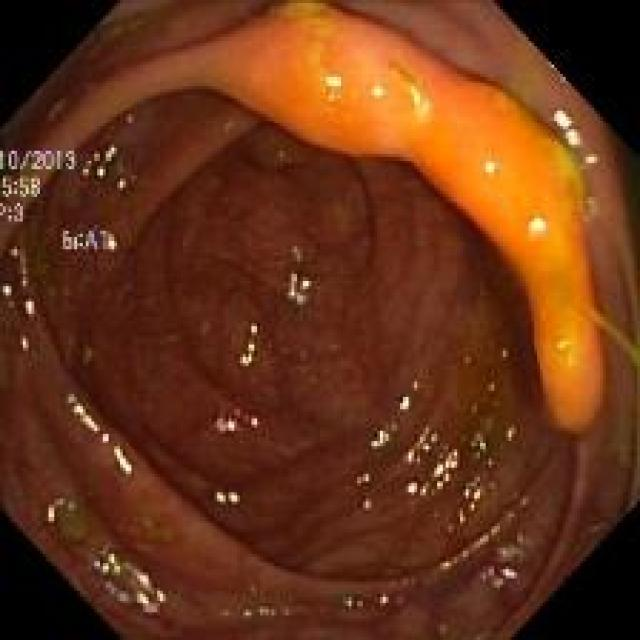Polyps: (44, 3, 605, 433)
